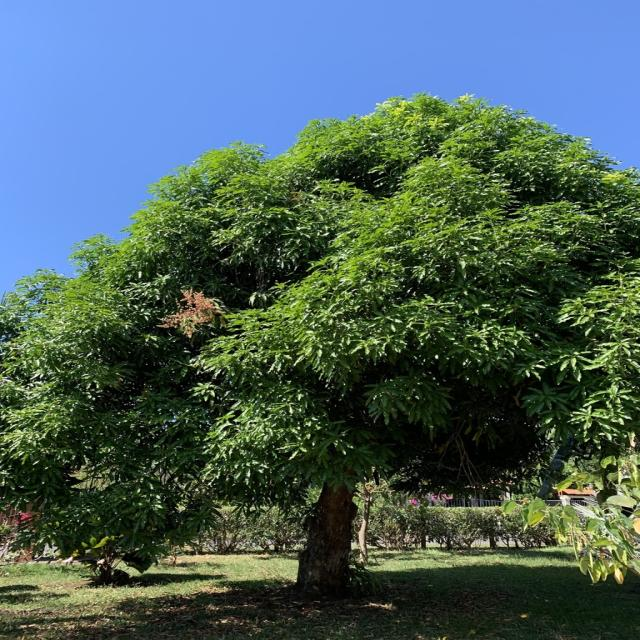Mango-Tree: (18, 117, 639, 560)
